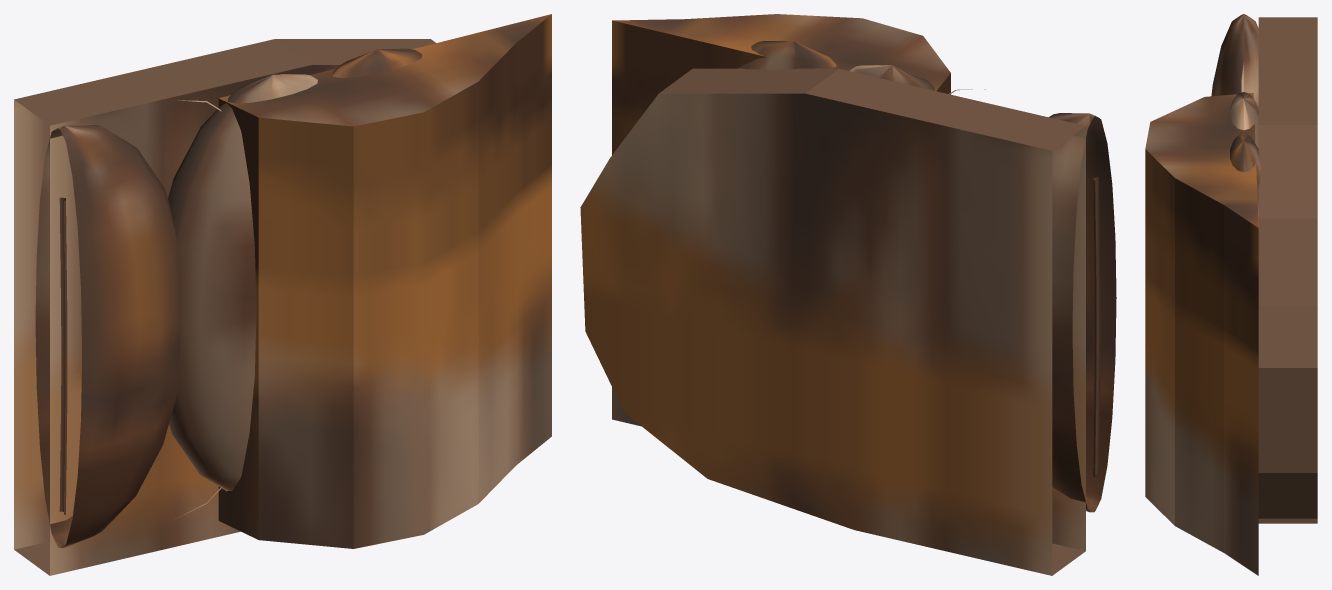
File: section-1.obj
3 views of the same model, side by side, from view 1: azimuth 30°, elevation 25°; view 2: azimuth 150°, elevation 25°; view 3: azimuth 270°, elevation 25° (orthographic). The views are drawn at different scales.
Size of the model in its own units: 0.97 by 0.846 by 0.35.
